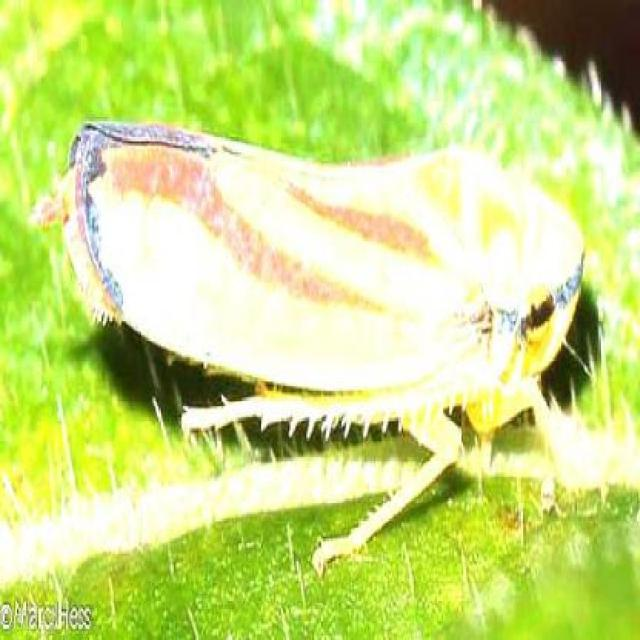green-leafhopper: (71, 124, 580, 478)
